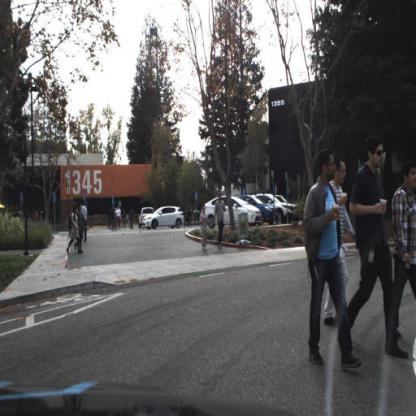biker: (109, 204, 120, 234), (111, 206, 119, 231), (116, 205, 124, 228)
car: (203, 196, 263, 234), (254, 193, 298, 226), (141, 204, 188, 233), (238, 195, 279, 226), (139, 206, 186, 229), (77, 206, 91, 257), (276, 192, 298, 224), (137, 207, 155, 222)
pedestrian: (341, 140, 410, 361), (302, 151, 366, 373), (326, 157, 357, 325), (330, 157, 353, 328), (67, 206, 84, 262), (213, 195, 227, 254), (80, 200, 93, 251), (199, 205, 211, 254), (76, 201, 83, 257), (74, 199, 85, 234), (113, 206, 121, 231)
